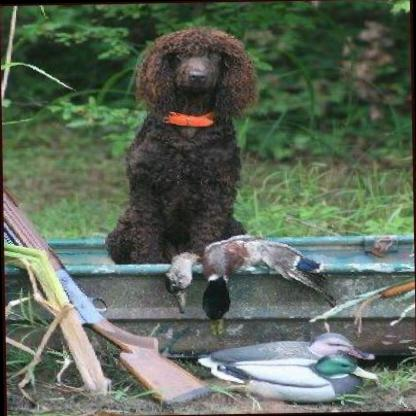Irish_water_spaniel: (96, 25, 260, 262)
